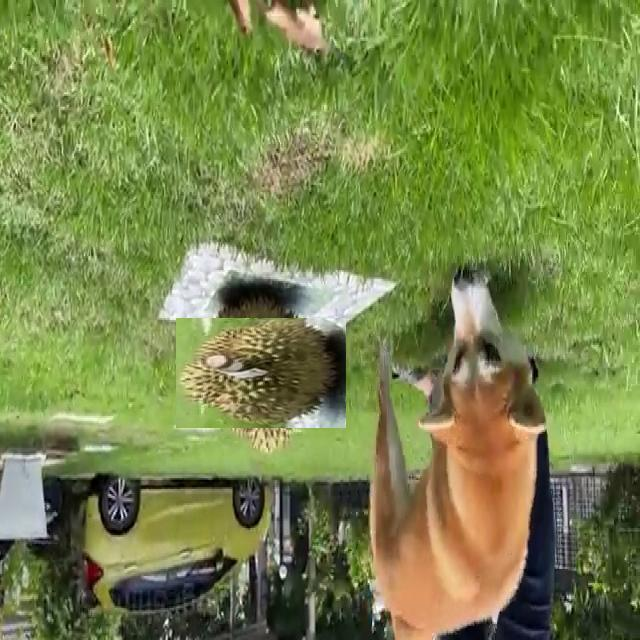durian: (190, 302, 332, 443)
